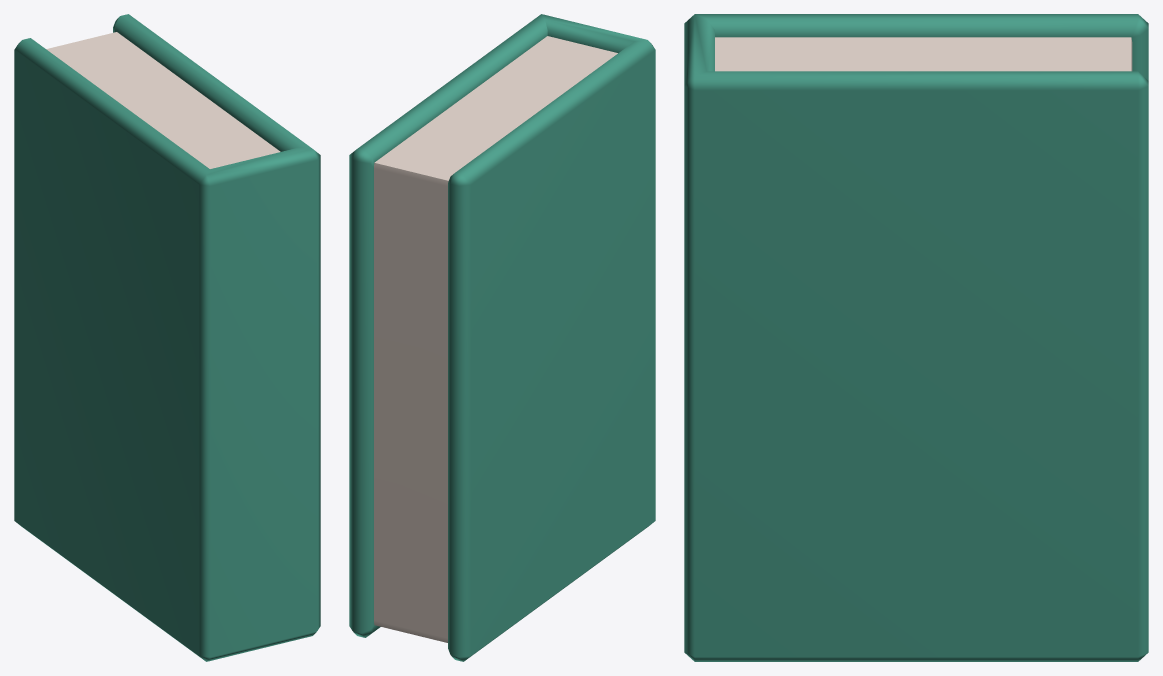
The model's file is Book_4.glb.
3 views of the same model, side by side, from view 1: azimuth 30°, elevation 25°; view 2: azimuth 150°, elevation 25°; view 3: azimuth 270°, elevation 25° (orthographic). The views are drawn at different scales.
Visible parts, largest first — view 1: Book_4; view 2: Book_4; view 3: Book_4.
Part boxes in pixels (bbox=[...]): Book_4: bbox=[14, 14, 320, 661]; Book_4: bbox=[349, 14, 655, 661]; Book_4: bbox=[684, 14, 1148, 661].
Bounding box in the file's own units: 0.0953 × 0.364 × 0.2618.
1 material, 1 textured.
